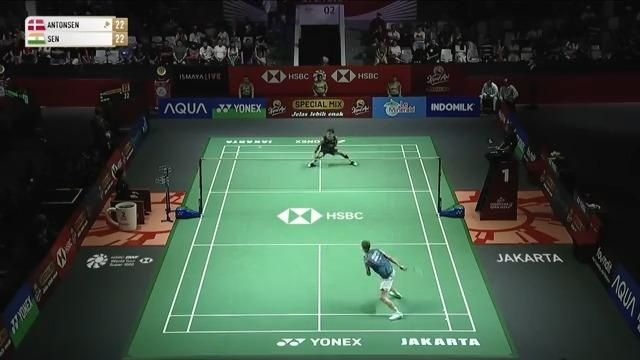Shuttlecock: (255, 143, 263, 151)
